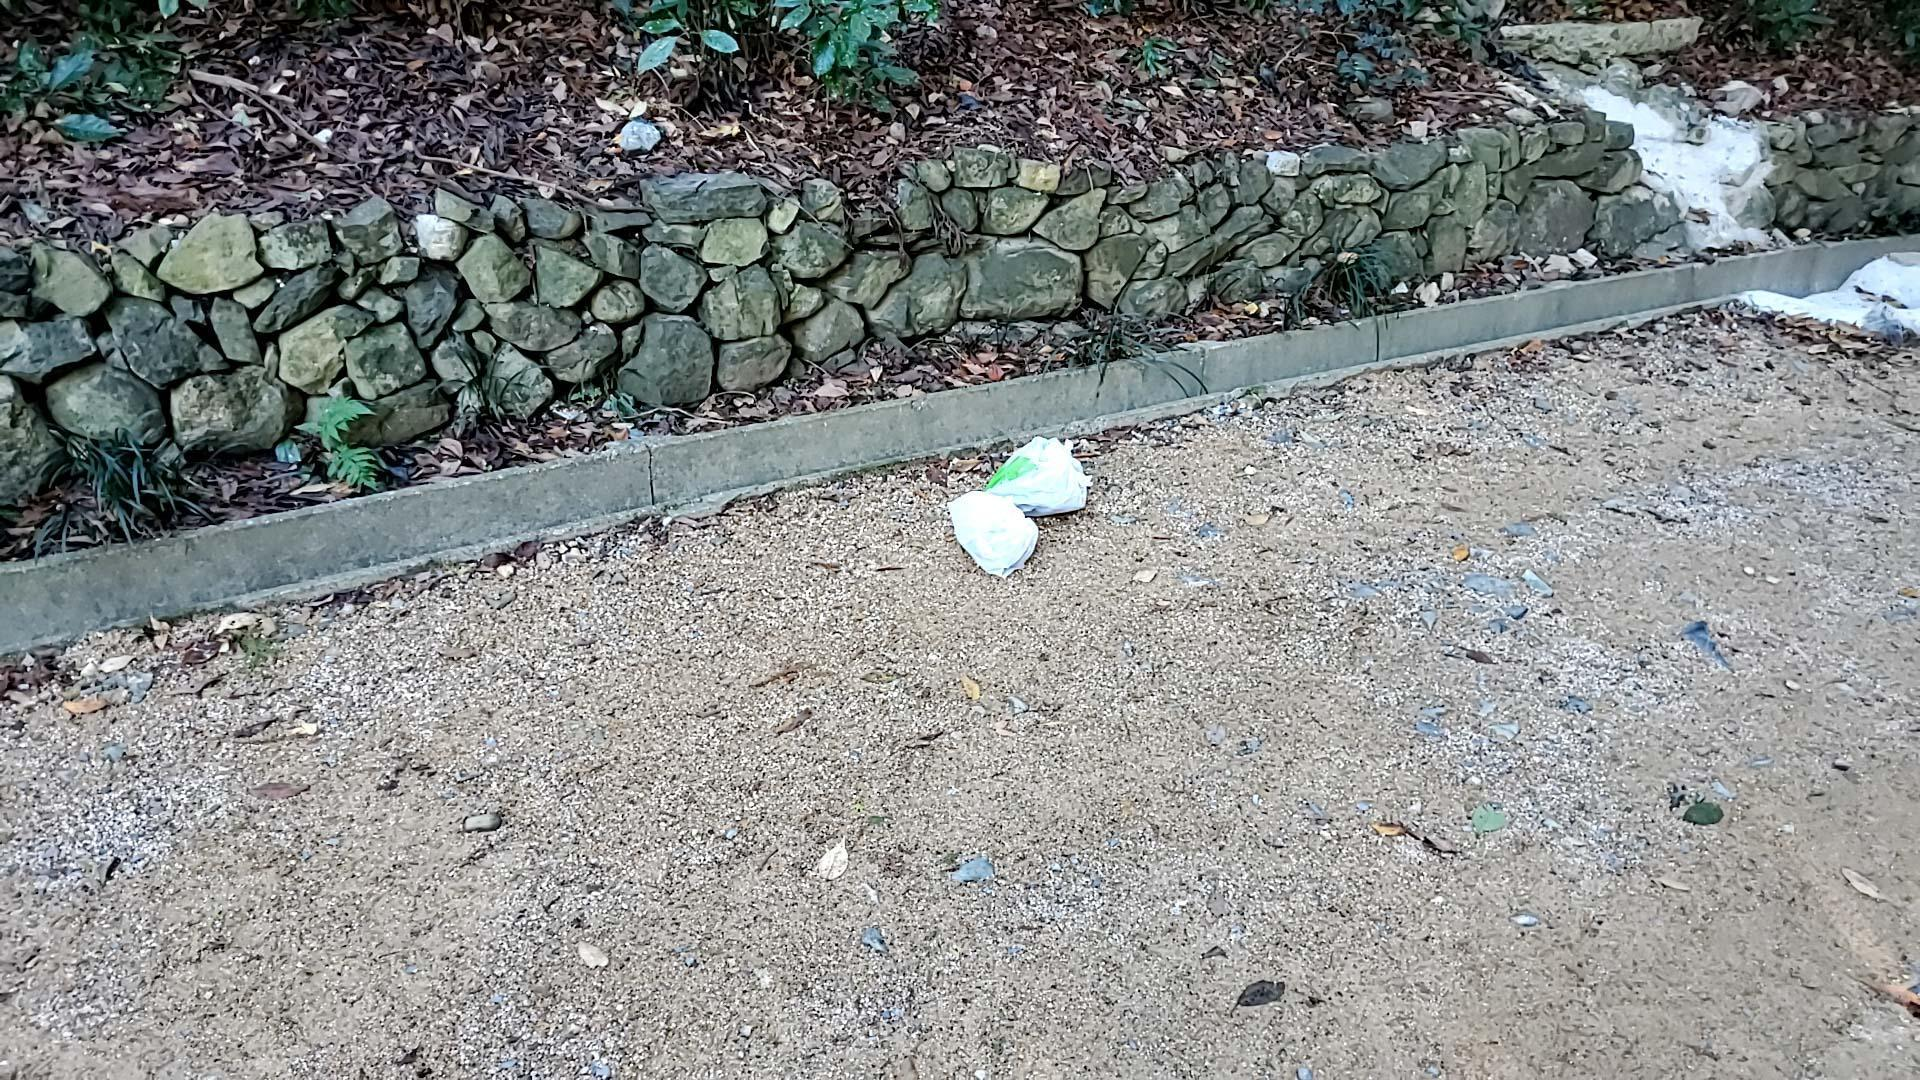white_bag: (982, 434, 1098, 527), (938, 485, 1046, 579)
